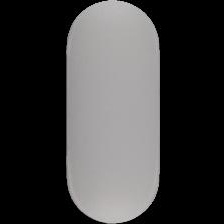43063-307: (0, 0, 224, 224)
